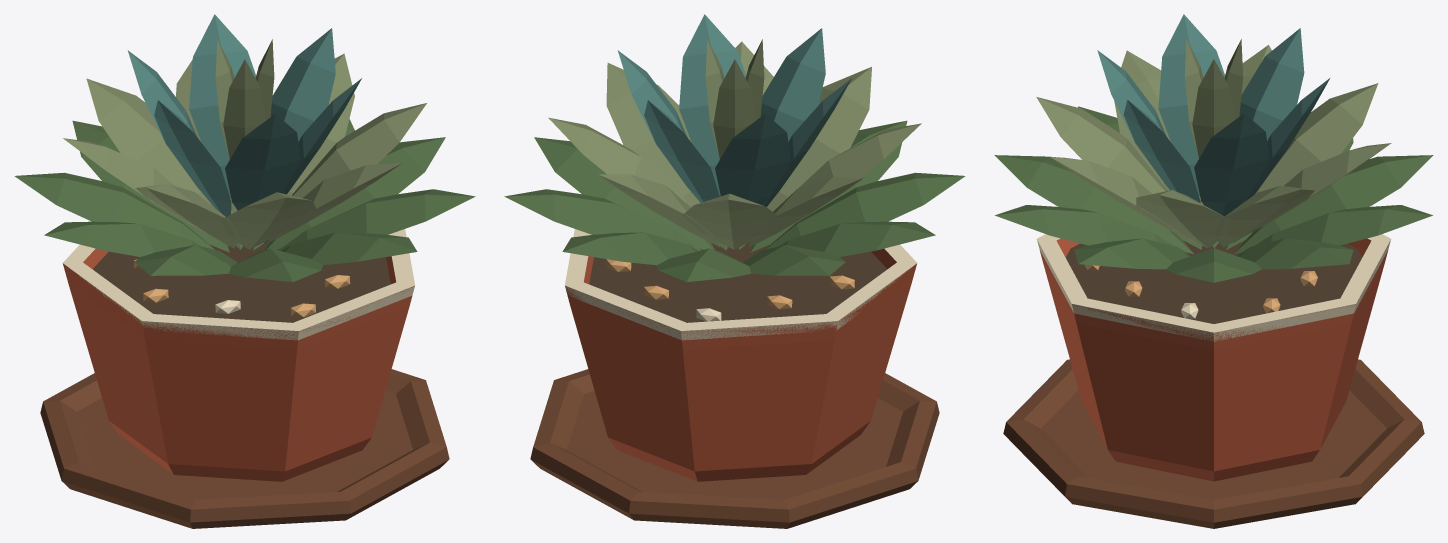
File: 020_succulent_planter_v01.glb
The picture shows the model from 3 angles, left to right: view 1: azimuth 30°, elevation 25°; view 2: azimuth 150°, elevation 25°; view 3: azimuth 270°, elevation 25°; orthographic projection.
Visible parts, largest first — view 1: Seven-sided planter hollow shell, Octagonal planter drainage saucer, Visible dry succulent potting soil, Planter ivory rim band, Succulent rosette layer 1 leaf 07, Succulent rosette layer 2 leaf 06, Succulent rosette layer 3 leaf 02, Succulent rosette layer 3 leaf 05, Succulent rosette layer 1 leaf 02, Succulent rosette layer 3 leaf 06, Succulent rosette layer 2 leaf 01, Succulent rosette layer 1 leaf 01 (+17 smaller); view 2: Seven-sided planter hollow shell, Octagonal planter drainage saucer, Visible dry succulent potting soil, Planter ivory rim band, Succulent rosette layer 1 leaf 05, Succulent rosette layer 3 leaf 04, Succulent rosette layer 3 leaf 01, Succulent rosette layer 1 leaf 10, Succulent rosette layer 2 leaf 03, Succulent rosette layer 3 leaf 02, Succulent rosette layer 2 leaf 01, Succulent rosette layer 1 leaf 01 (+16 smaller); view 3: Seven-sided planter hollow shell, Octagonal planter drainage saucer, Visible dry succulent potting soil, Planter ivory rim band, Succulent rosette layer 3 leaf 06, Succulent rosette layer 1 leaf 08, Succulent rosette layer 2 leaf 06, Succulent rosette layer 1 leaf 04, Succulent rosette layer 2 leaf 03, Succulent rosette layer 3 leaf 03, Succulent rosette layer 3 leaf 04, Succulent rosette layer 1 leaf 03 (+16 smaller).
Part boxes in pixels (x1,y1,x2,y2): Seven-sided planter hollow shell: (63, 248, 414, 481); Octagonal planter drainage saucer: (40, 369, 449, 528); Visible dry succulent potting soil: (93, 242, 390, 322); Planter ivory rim band: (63, 229, 414, 340); Succulent rosette layer 1 leaf 07: (14, 172, 215, 249); Succulent rosette layer 2 leaf 06: (86, 78, 214, 207); Succulent rosette layer 3 leaf 02: (225, 114, 300, 210); Succulent rosette layer 3 leaf 05: (189, 14, 255, 198); Succulent rosette layer 1 leaf 02: (278, 189, 475, 250); Succulent rosette layer 3 leaf 06: (270, 28, 335, 141); Succulent rosette layer 2 leaf 01: (292, 103, 426, 198); Succulent rosette layer 1 leaf 01: (265, 137, 445, 249); Seven-sided planter hollow shell: (565, 248, 916, 481); Octagonal planter drainage saucer: (530, 369, 939, 528); Visible dry succulent potting soil: (589, 242, 886, 322); Planter ivory rim band: (565, 229, 917, 340); Succulent rosette layer 1 leaf 05: (764, 172, 965, 249); Succulent rosette layer 3 leaf 04: (715, 114, 790, 204); Succulent rosette layer 3 leaf 01: (679, 14, 745, 196); Succulent rosette layer 1 leaf 10: (504, 189, 701, 250); Succulent rosette layer 2 leaf 03: (766, 67, 871, 211); Succulent rosette layer 3 leaf 02: (760, 28, 825, 141); Succulent rosette layer 2 leaf 01: (606, 63, 700, 207); Succulent rosette layer 1 leaf 01: (534, 137, 714, 249); Seven-sided planter hollow shell: (1039, 238, 1388, 481); Octagonal planter drainage saucer: (1003, 359, 1424, 528); Visible dry succulent potting soil: (1065, 240, 1362, 323); Planter ivory rim band: (1037, 234, 1390, 341); Succulent rosette layer 3 leaf 06: (1194, 113, 1269, 216); Succulent rosette layer 1 leaf 08: (1234, 155, 1433, 254); Succulent rosette layer 2 leaf 06: (1254, 83, 1378, 194); Succulent rosette layer 1 leaf 04: (994, 155, 1193, 254); Succulent rosette layer 2 leaf 03: (1036, 97, 1168, 193); Succulent rosette layer 3 leaf 03: (1158, 14, 1224, 196); Succulent rosette layer 3 leaf 04: (1239, 28, 1304, 141); Succulent rosette layer 1 leaf 03: (995, 205, 1172, 245).
Size of the model in its own units: 0.32 by 0.305 by 0.3043.
